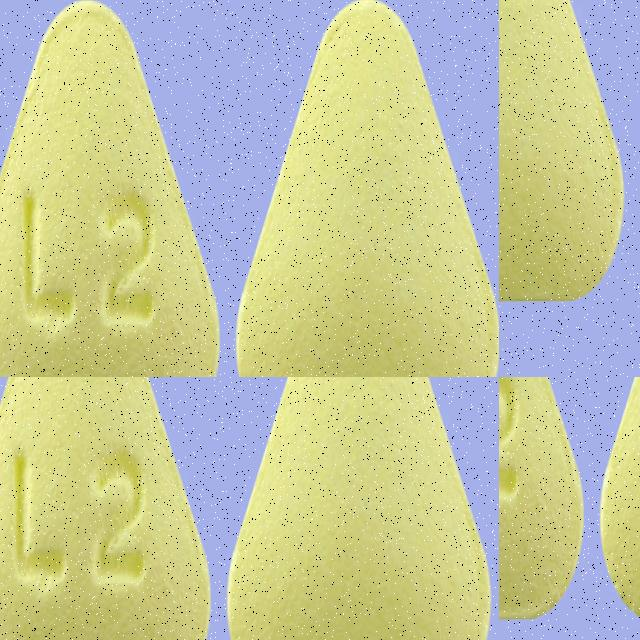Hericlo: (0, 437, 261, 640), (205, 377, 499, 496)
Levostar -500mg: (105, 264, 269, 377)
Luarva: (499, 377, 583, 623), (599, 377, 640, 623)
